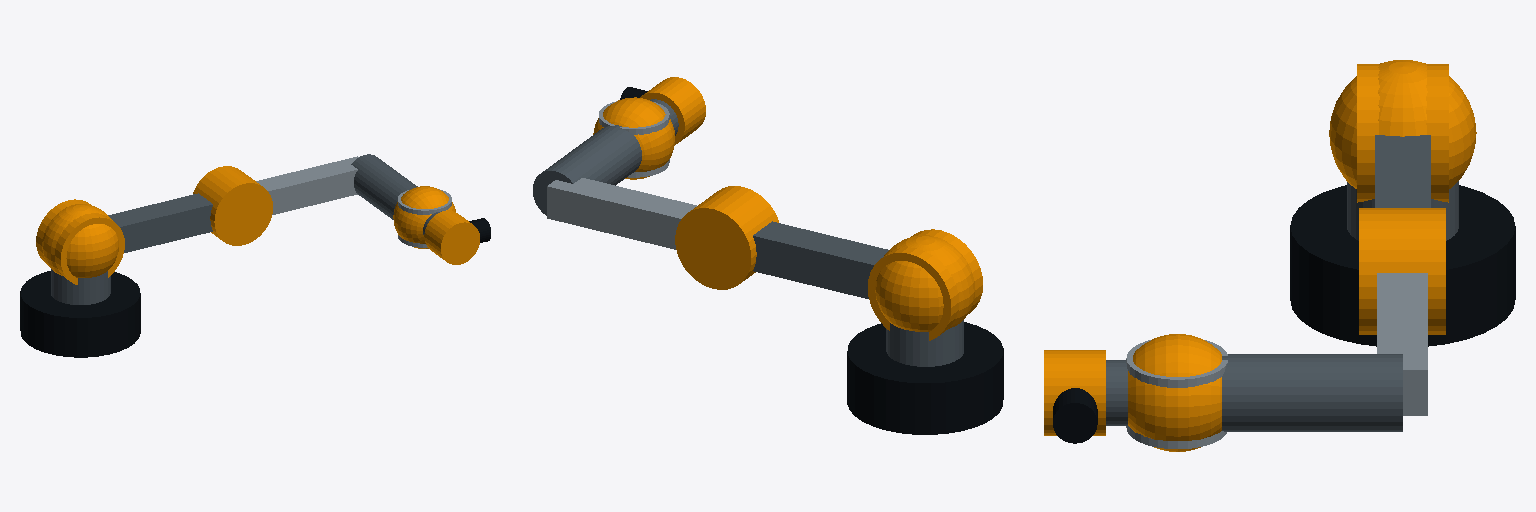
robot.urdf — educational_6dof_arm:
<?xml version="1.0"?>
<robot name="educational_6dof_arm">
  <material name="dark_gray">
    <color rgba="0.08 0.10 0.12 1.0"/>
  </material>
  <material name="robot_blue">
    <color rgba="0.34 0.38 0.41 1.0"/>
  </material>
  <material name="robot_orange">
    <color rgba="0.92 0.58 0.03 1.0"/>
  </material>
  <material name="silver">
    <color rgba="0.55 0.59 0.62 1.0"/>
  </material>

  <link name="base_link">
    <visual>
      <origin xyz="0 0 0.04" rpy="0 0 0"/>
      <geometry><cylinder radius="0.11" length="0.08"/></geometry>
      <material name="dark_gray"/>
    </visual>
  </link>

  <link name="joint_1_rotor">
    <visual>
      <origin xyz="0 0 -0.09" rpy="0 0 0"/>
      <geometry><cylinder radius="0.055" length="0.18"/></geometry>
      <material name="robot_blue"/>
    </visual>
    <visual>
      <geometry><sphere radius="0.072"/></geometry>
      <material name="robot_orange"/>
    </visual>
  </link>
  <joint name="joint_1" type="revolute">
    <parent link="base_link"/>
    <child link="joint_1_rotor"/>
    <origin xyz="0 0 0.18" rpy="0 0 0"/>
    <axis xyz="0 0 1"/>
    <limit lower="-3.141592653589793" upper="3.141592653589793" effort="50" velocity="1.5"/>
  </joint>

  <link name="link_1"/>
  <joint name="joint_1_dh_fixed" type="fixed">
    <parent link="joint_1_rotor"/>
    <child link="link_1"/>
    <origin xyz="0 0 0" rpy="1.5707963267948966 0 0"/>
  </joint>

  <link name="joint_2_rotor">
    <visual>
      <origin xyz="0.16 0 0" rpy="0 0 0"/>
      <geometry><box size="0.32 0.055 0.055"/></geometry>
      <material name="robot_blue"/>
    </visual>
    <visual>
      <geometry><cylinder radius="0.068" length="0.09"/></geometry>
      <material name="robot_orange"/>
    </visual>
  </link>
  <joint name="joint_2" type="revolute">
    <parent link="link_1"/>
    <child link="joint_2_rotor"/>
    <origin xyz="0 0 0" rpy="0 0 0"/>
    <axis xyz="0 0 1"/>
    <limit lower="-2.35" upper="2.35" effort="50" velocity="1.5"/>
  </joint>

  <link name="link_2"/>
  <joint name="joint_2_dh_fixed" type="fixed">
    <parent link="joint_2_rotor"/>
    <child link="link_2"/>
    <origin xyz="0.32 0 0" rpy="0 0 0"/>
  </joint>

  <link name="joint_3_rotor">
    <visual>
      <origin xyz="0.14 0 0" rpy="0 0 0"/>
      <geometry><box size="0.28 0.05 0.05"/></geometry>
      <material name="silver"/>
    </visual>
    <visual>
      <geometry><cylinder radius="0.062" length="0.085"/></geometry>
      <material name="robot_orange"/>
    </visual>
  </link>
  <joint name="joint_3" type="revolute">
    <parent link="link_2"/>
    <child link="joint_3_rotor"/>
    <origin xyz="0 0 0" rpy="0 0 0"/>
    <axis xyz="0 0 1"/>
    <limit lower="-2.35" upper="2.35" effort="50" velocity="1.5"/>
  </joint>

  <link name="link_3">
    <visual>
      <origin xyz="0 0 0.11" rpy="0 0 0"/>
      <geometry><cylinder radius="0.038" length="0.22"/></geometry>
      <material name="robot_blue"/>
    </visual>
  </link>
  <joint name="joint_3_dh_fixed" type="fixed">
    <parent link="joint_3_rotor"/>
    <child link="link_3"/>
    <origin xyz="0.28 0 0" rpy="0 0 0"/>
  </joint>

  <link name="joint_4_rotor">
    <visual>
      <geometry><sphere radius="0.058"/></geometry>
      <material name="robot_orange"/>
    </visual>
  </link>
  <joint name="joint_4" type="revolute">
    <parent link="link_3"/>
    <child link="joint_4_rotor"/>
    <origin xyz="0 0 0.22" rpy="0 0 0"/>
    <axis xyz="0 0 1"/>
    <limit lower="-3.141592653589793" upper="3.141592653589793" effort="30" velocity="2.0"/>
  </joint>

  <link name="link_4"/>
  <joint name="joint_4_dh_fixed" type="fixed">
    <parent link="joint_4_rotor"/>
    <child link="link_4"/>
    <origin xyz="0 0 0" rpy="1.5707963267948966 0 0"/>
  </joint>

  <link name="joint_5_rotor">
    <visual>
      <geometry><cylinder radius="0.05" length="0.075"/></geometry>
      <material name="silver"/>
    </visual>
  </link>
  <joint name="joint_5" type="revolute">
    <parent link="link_4"/>
    <child link="joint_5_rotor"/>
    <origin xyz="0 0 0" rpy="0 0 0"/>
    <axis xyz="0 0 1"/>
    <limit lower="-2.50" upper="2.50" effort="20" velocity="2.0"/>
  </joint>

  <link name="link_5">
    <visual>
      <origin xyz="0 0 0.05" rpy="0 0 0"/>
      <geometry><cylinder radius="0.032" length="0.10"/></geometry>
      <material name="robot_blue"/>
    </visual>
  </link>
  <joint name="joint_5_dh_fixed" type="fixed">
    <parent link="joint_5_rotor"/>
    <child link="link_5"/>
    <origin xyz="0 0 0" rpy="-1.5707963267948966 0 0"/>
  </joint>

  <link name="joint_6_rotor">
    <visual>
      <geometry><cylinder radius="0.042" length="0.06"/></geometry>
      <material name="robot_orange"/>
    </visual>
  </link>
  <joint name="joint_6" type="revolute">
    <parent link="link_5"/>
    <child link="joint_6_rotor"/>
    <origin xyz="0 0 0.10" rpy="0 0 0"/>
    <axis xyz="0 0 1"/>
    <limit lower="-3.141592653589793" upper="3.141592653589793" effort="15" velocity="2.5"/>
  </joint>

  <link name="tool0">
    <visual>
      <origin xyz="0.035 0 0" rpy="0 1.5707963267948966 0"/>
      <geometry><cylinder radius="0.022" length="0.07"/></geometry>
      <material name="dark_gray"/>
    </visual>
  </link>
  <joint name="tool_fixed" type="fixed">
    <parent link="joint_6_rotor"/>
    <child link="tool0"/>
    <origin xyz="0 0 0" rpy="0 0 0"/>
  </joint>
</robot>

--- Render facts (derived) ---
3 views of the same robot in one strip: view 1: azimuth 30°, elevation 25°; view 2: azimuth 150°, elevation 25°; view 3: azimuth 270°, elevation 25° (orthographic).
Robot: educational_6dof_arm — 13 links, 12 joints (6 revolute, 6 fixed); root link base_link; default pose: every joint at zero.
Links seen in each view (by area): view 1: joint_3_rotor, base_link, joint_2_rotor, joint_1_rotor, joint_6_rotor, link_3, joint_4_rotor; view 2: joint_3_rotor, base_link, joint_2_rotor, joint_1_rotor, link_3, joint_4_rotor, joint_6_rotor, joint_5_rotor; view 3: base_link, link_3, joint_3_rotor, joint_2_rotor, joint_1_rotor, joint_4_rotor, joint_6_rotor, joint_5_rotor, tool0, link_5.
Link boxes in pixels (box(x1,y1,x2,y2)): joint_3_rotor: box(193, 156, 358, 245); base_link: box(20, 271, 140, 357); joint_2_rotor: box(36, 193, 212, 284); joint_1_rotor: box(42, 204, 118, 304); joint_6_rotor: box(424, 210, 479, 264); link_3: box(351, 154, 417, 219); joint_4_rotor: box(393, 186, 455, 248); joint_3_rotor: box(547, 178, 778, 289); base_link: box(847, 322, 1003, 434); joint_2_rotor: box(753, 221, 982, 340); joint_1_rotor: box(875, 235, 974, 366); link_3: box(533, 125, 641, 215); joint_4_rotor: box(593, 97, 674, 179); joint_6_rotor: box(640, 77, 705, 144); joint_5_rotor: box(599, 101, 669, 177); base_link: box(1290, 185, 1515, 346); link_3: box(1222, 354, 1402, 431); joint_3_rotor: box(1359, 208, 1445, 415); joint_2_rotor: box(1357, 64, 1448, 207); joint_1_rotor: box(1329, 60, 1476, 240); joint_4_rotor: box(1128, 334, 1221, 451); joint_6_rotor: box(1044, 350, 1105, 435); joint_5_rotor: box(1126, 340, 1227, 448); tool0: box(1053, 388, 1097, 443); link_5: box(1106, 360, 1127, 425).
Size in the robot's own frame: 0.78 by 0.46 by 0.252 metres.
Geometry: primitives only (box / cylinder / sphere), no mesh files.
